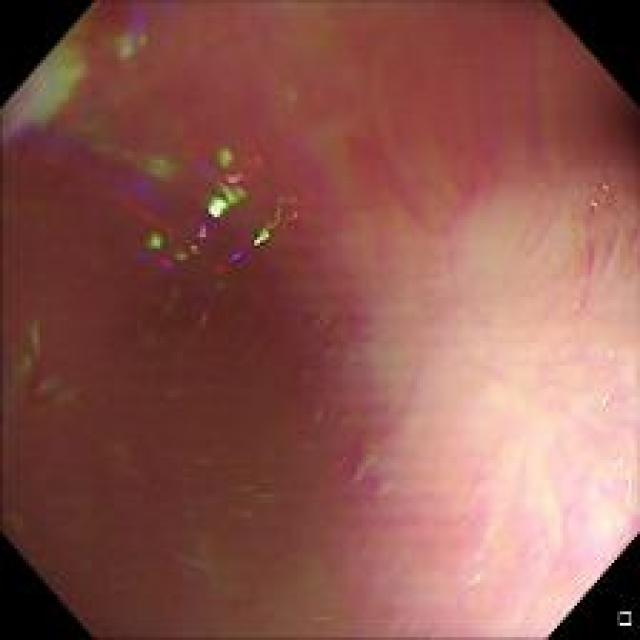bubbles: (345, 438, 379, 485), (310, 309, 335, 329), (309, 405, 328, 428), (295, 434, 314, 454), (464, 570, 486, 586), (478, 519, 496, 538), (595, 389, 611, 409)
color misalignment: (6, 16, 625, 622), (131, 124, 291, 318)
saturation: (451, 322, 602, 581)
